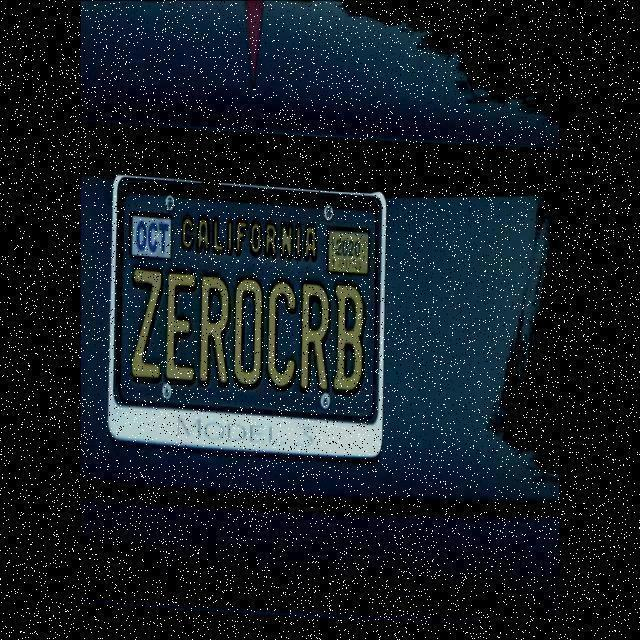License Plate: (112, 174, 388, 462)
